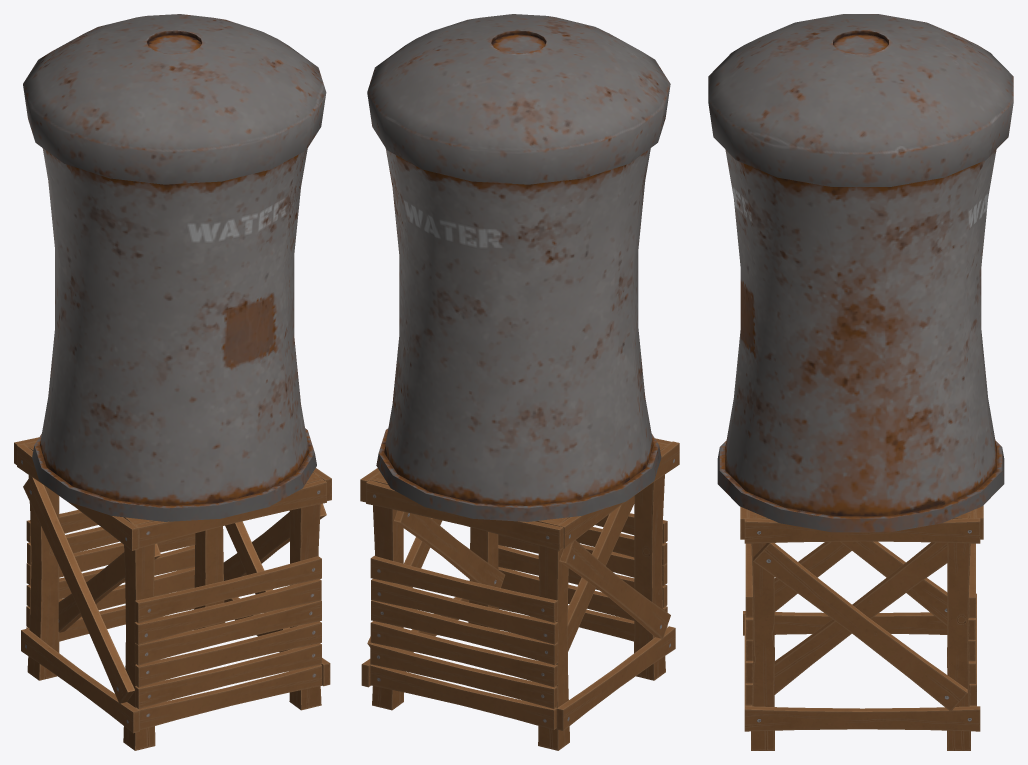
The model's file is SM_Props_WaterBarrel_01.glb.
The picture shows the model from 3 angles, left to right: view 1: azimuth 30°, elevation 25°; view 2: azimuth 150°, elevation 25°; view 3: azimuth 270°, elevation 25°; orthographic projection. The views are drawn at different scales.
Parts seen in each view (by area): view 1: SM_Props_WaterBarrel_01; view 2: SM_Props_WaterBarrel_01; view 3: SM_Props_WaterBarrel_01.
Boxes of the visible parts, box(x1,y1,x2,y2) form: SM_Props_WaterBarrel_01: box(14, 14, 331, 750); SM_Props_WaterBarrel_01: box(360, 14, 679, 750); SM_Props_WaterBarrel_01: box(708, 14, 1013, 750).
Bounding box in the file's own units: 2.17 × 5.2 × 2.17.
Materials: 2 (2 with a texture image).
